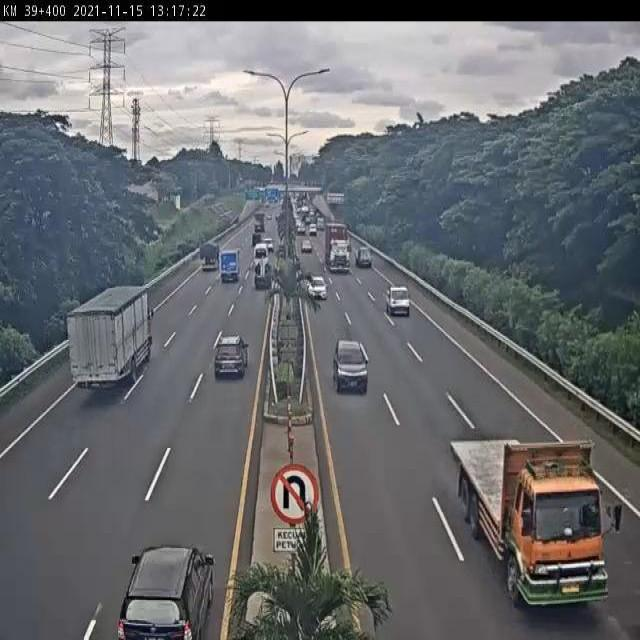car: (382, 280, 412, 320), (353, 240, 375, 269)
truck-l-: (449, 435, 614, 617), (71, 282, 158, 390)
truck-s-: (191, 233, 219, 272), (253, 254, 279, 294), (218, 244, 243, 284)
truck-xl-: (323, 221, 354, 279)
